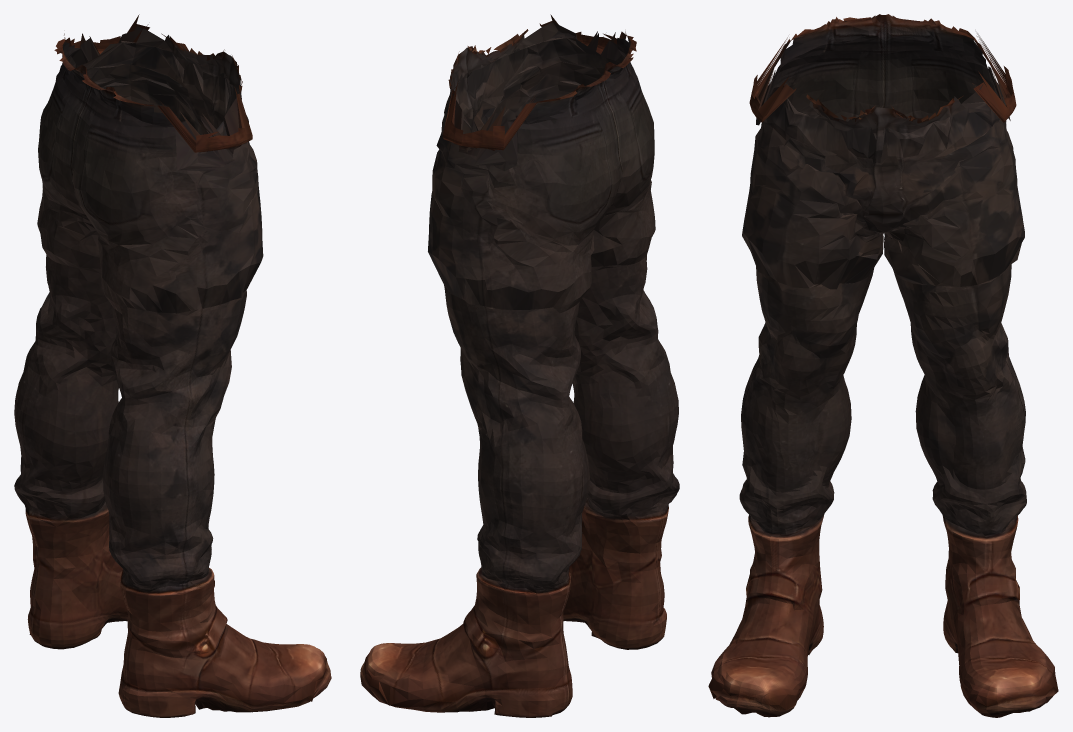
File: bold_cowboy_under_trousers.glb
3 views of the same model, side by side, from view 1: azimuth 30°, elevation 25°; view 2: azimuth 150°, elevation 25°; view 3: azimuth 270°, elevation 25° (orthographic).
Parts seen in each view (by area): view 1: trousers; view 2: trousers; view 3: trousers.
Boxes of the visible parts, bbox=[...] form: trousers: bbox=[14, 14, 331, 717]; trousers: bbox=[360, 14, 679, 717]; trousers: bbox=[708, 14, 1058, 717].
Bounding box in the file's own units: 0.2155 × 0.6241 × 0.3192.
Materials: 1 (1 with a texture image).
